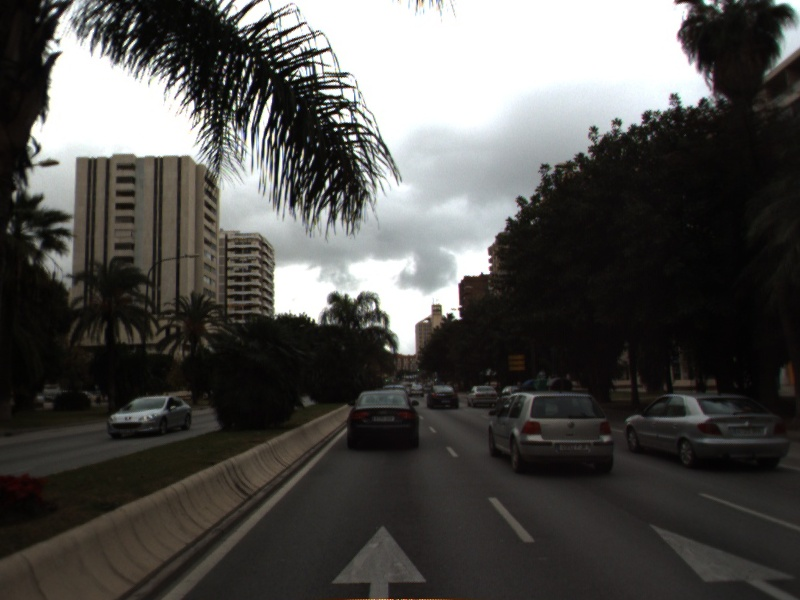STRAIGHT: (645, 520, 799, 600), (328, 521, 432, 600)
